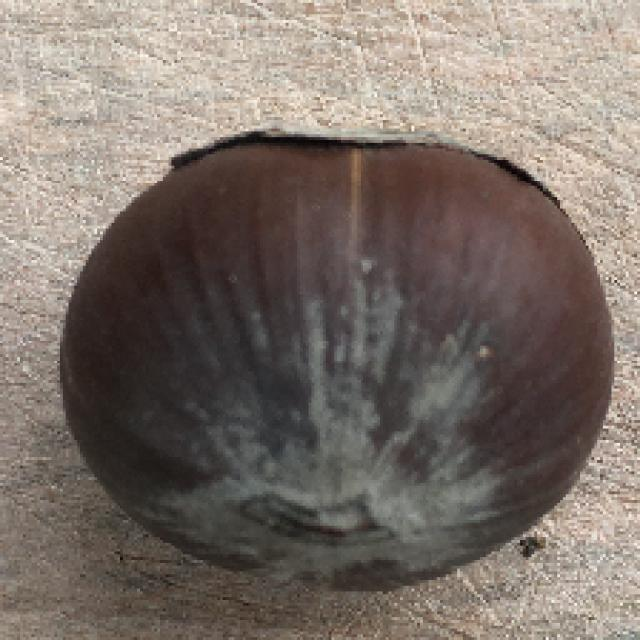damagedHazelnut: (57, 108, 640, 604)
